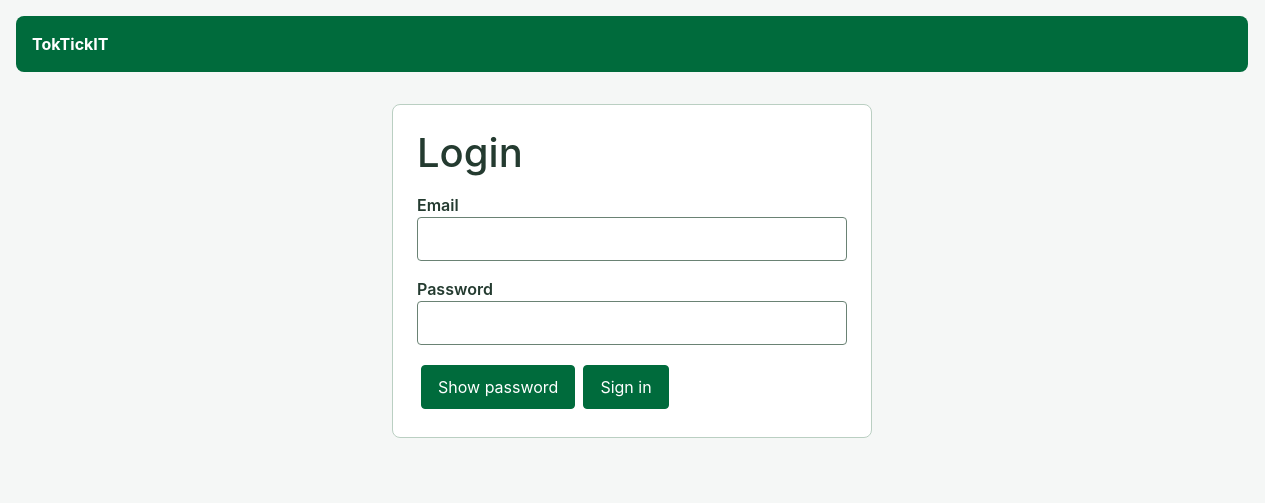
it: UI-01 presents login and generic inactive/wrong credential feedback
Expected: the button "Sign in" is shown, [583, 365, 669, 409]
Step 1. Type "a@example.test" into the field labelled "Email" → (632, 239), box [417, 217, 847, 261]
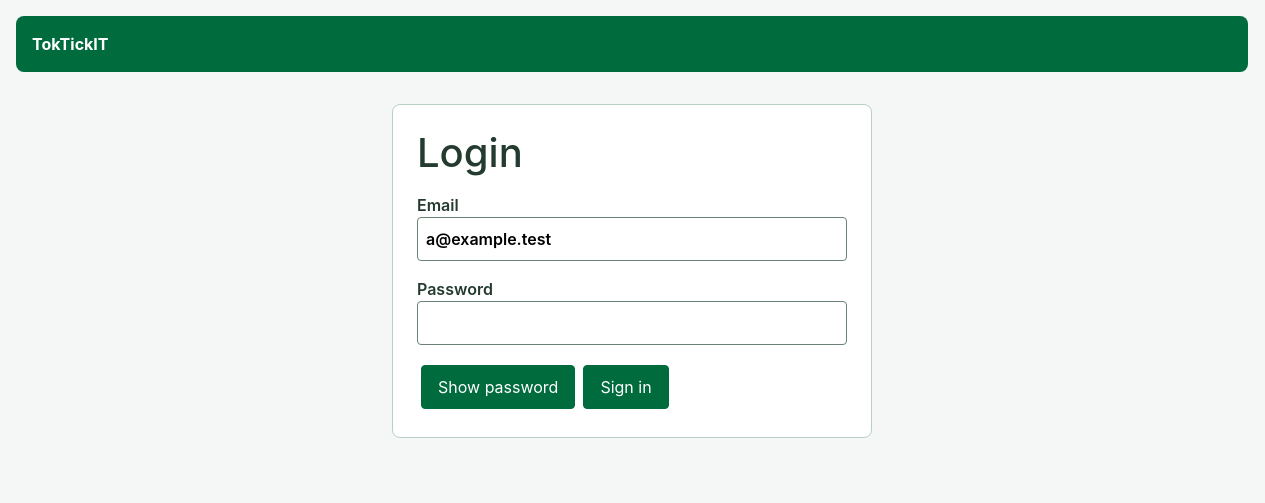
Step 2. Type "wrong" into the password field labelled "Password" → (632, 323), box [417, 301, 847, 345]
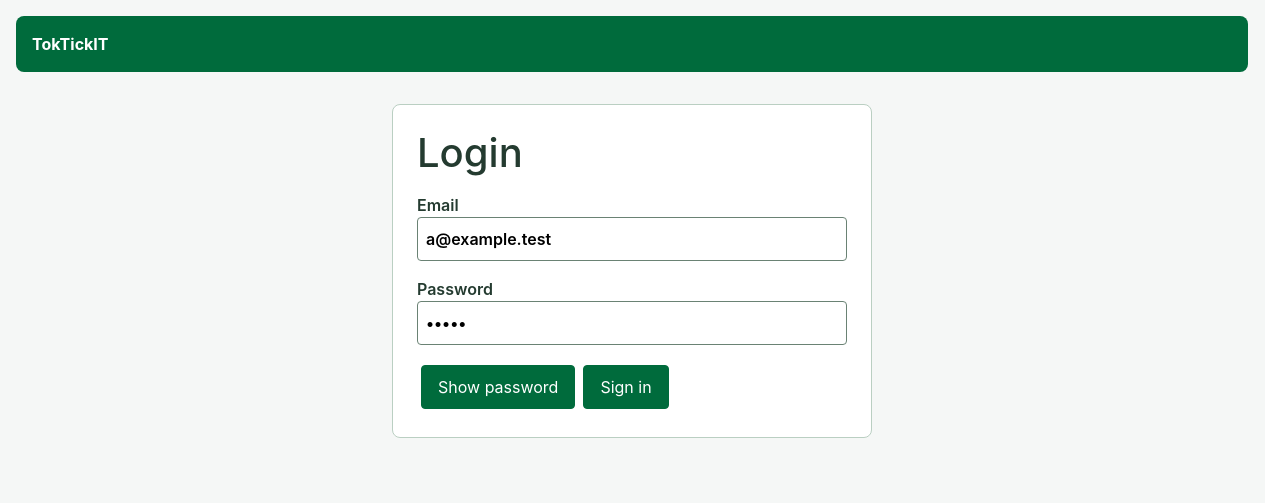
Step 3. Click the button "Sign in" → (626, 387), box [583, 365, 669, 409]
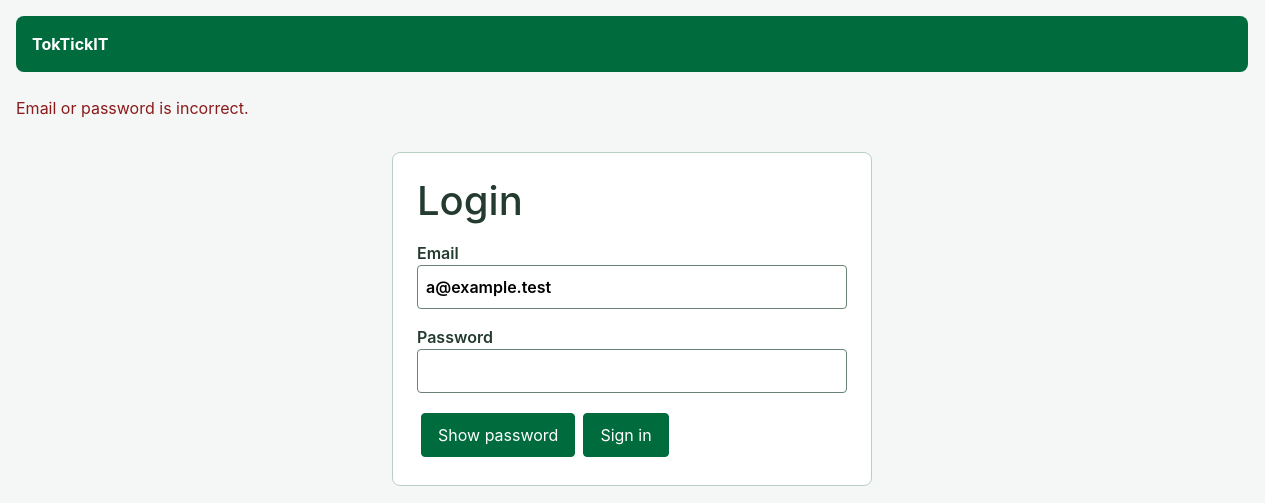
Result: the text "Email or password is incorrect." is shown at [16, 98, 248, 118]
Result: the password field labelled "Password" is empty at [417, 349, 847, 393]
